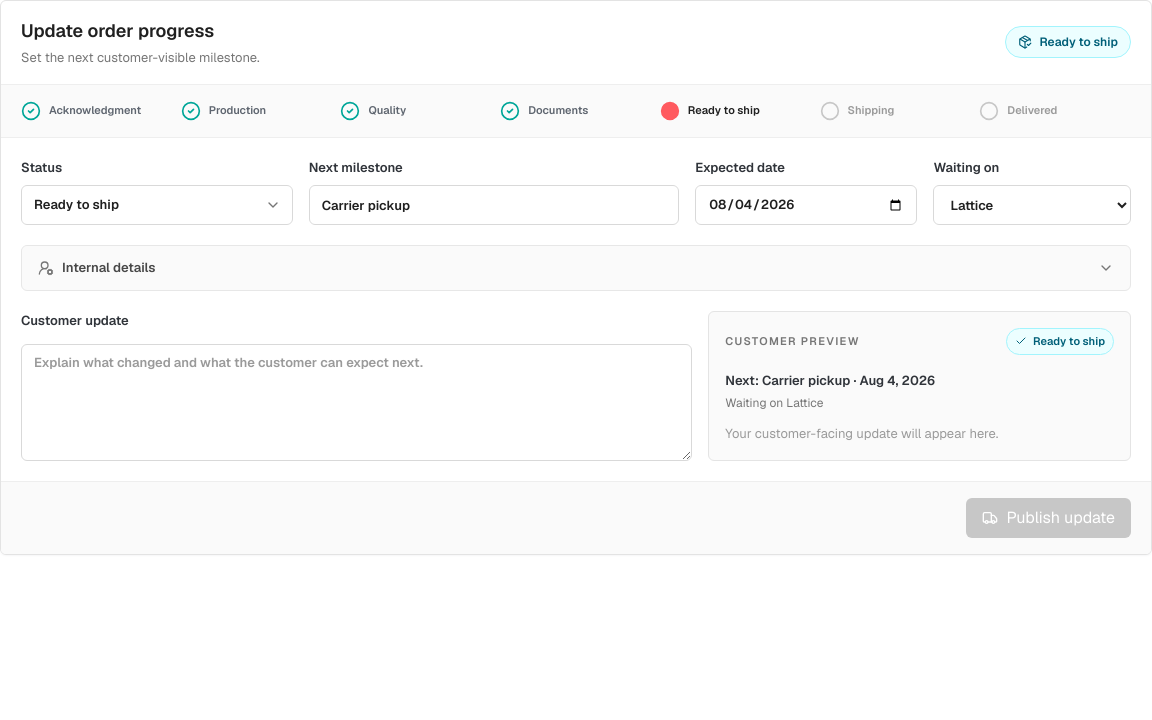
Test case: AdminOrderProgressForm › shows lifecycle context, customer preview, and conditional shipping fields
Check: the list named "Order lifecycle" is shown, box [21,100,1131,120]
Check: the text "Customer preview" is shown, box [725,333,860,350]
Select "Shipped" in the dropdown labelled "Status" at (157, 205), box [21,185,293,225]
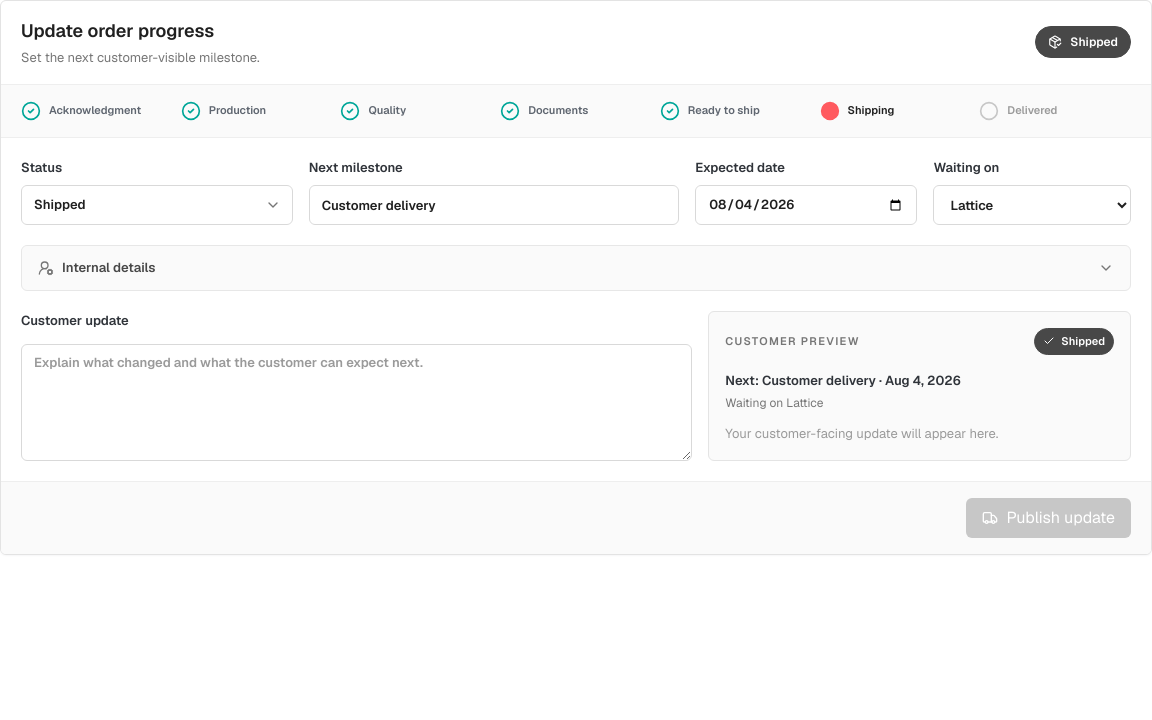
Check: the element named "Tracking number" is shown, box [21,245,1131,291]
Check: the field showing "Customer delivery" is shown, box [309,185,679,225]
Type "The order has shipped and tracking is now available." into the text box labelled "Customer update".
click(357, 402); type("The order has shipped and tracking is now available.")  # box [21,344,692,461]
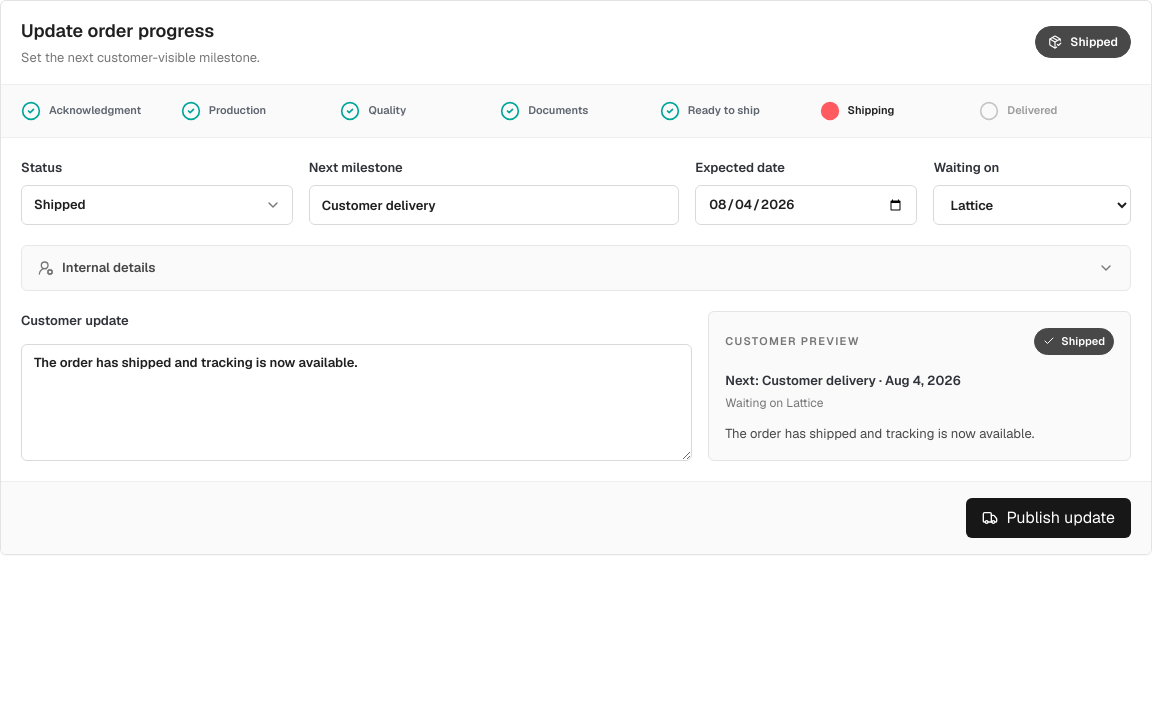
Check: the button "Publish update" is enabled, box [966,498,1131,538]
Check: the text "The order has shipped and tracking is now available." is shown, box [725,425,1034,442]
